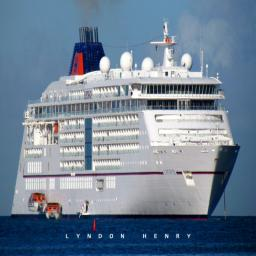cruises: (11, 17, 241, 227)
